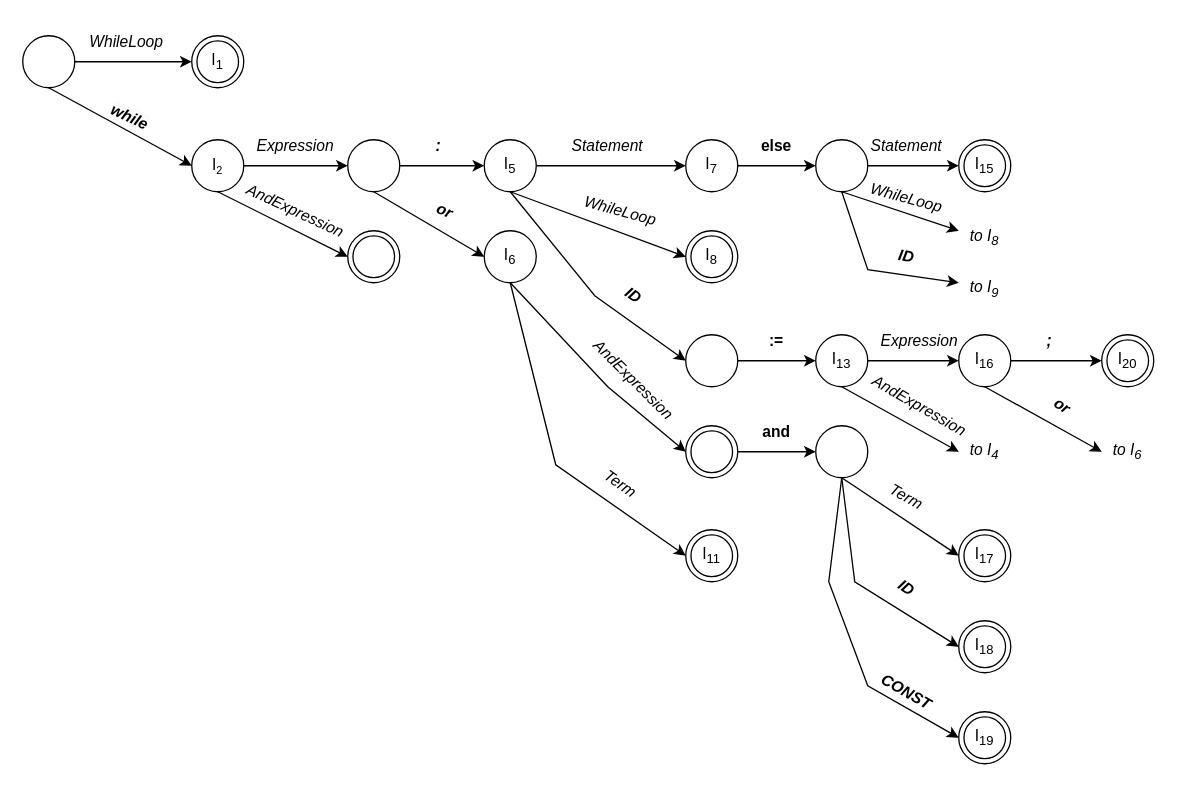
This 1190x787 diagram has some shape labels left out. Each missing label, with the centre of its shape:
"I 0" belongs at point (48, 61).
"I 10" belongs at point (711, 451).
"I 12" belongs at point (841, 165).
"I 14" belongs at point (841, 451).
"I 3" belongs at point (373, 165).
"I 4" belongs at point (373, 256).
"I 9" belongs at point (711, 360).
